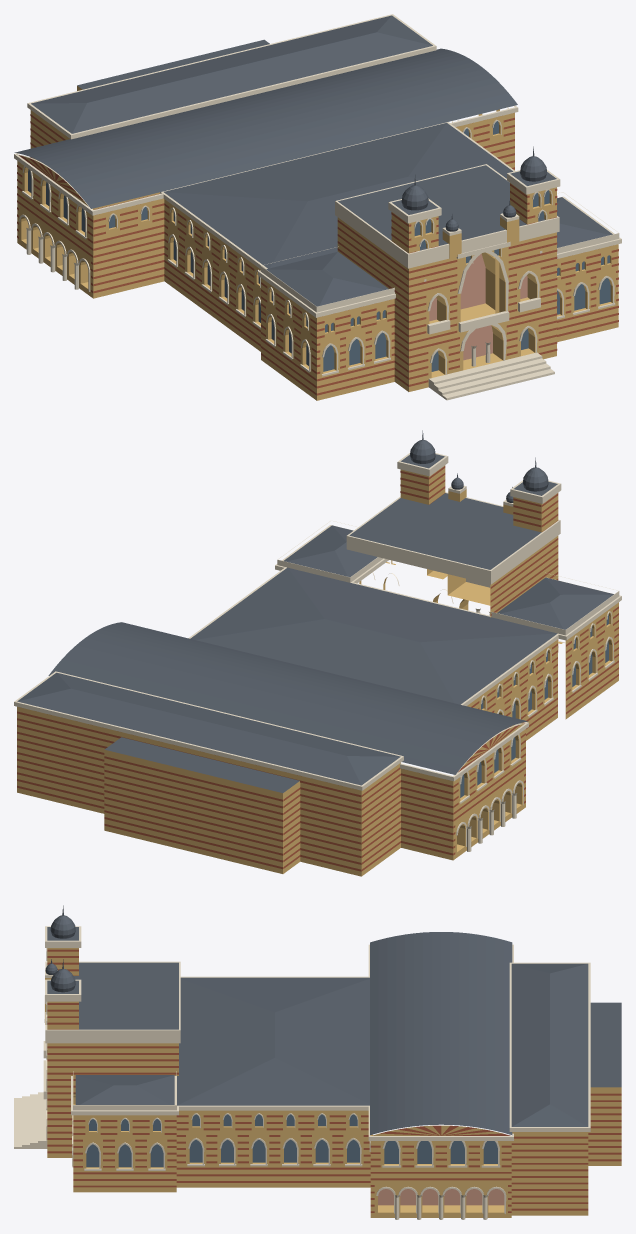
File: tbilisi-opera.detail.glb
3 renders of one model, top to bottom at view 1: azimuth 30°, elevation 25°; view 2: azimuth 150°, elevation 25°; view 3: azimuth 270°, elevation 25°, orthographic. The views are drawn at different scales.
Visible parts, largest first — view 1: Tbilisi Opera and Ballet Theatre; view 2: Tbilisi Opera and Ballet Theatre; view 3: Tbilisi Opera and Ballet Theatre.
Part boxes in pixels (x1=…): Tbilisi Opera and Ballet Theatre: x1=14, y1=14, x2=621, y2=400; Tbilisi Opera and Ballet Theatre: x1=14, y1=430, x2=621, y2=876; Tbilisi Opera and Ballet Theatre: x1=14, y1=905, x2=621, y2=1219.
Size of the model in its own units: 63.9 by 29.4 by 84.03.
